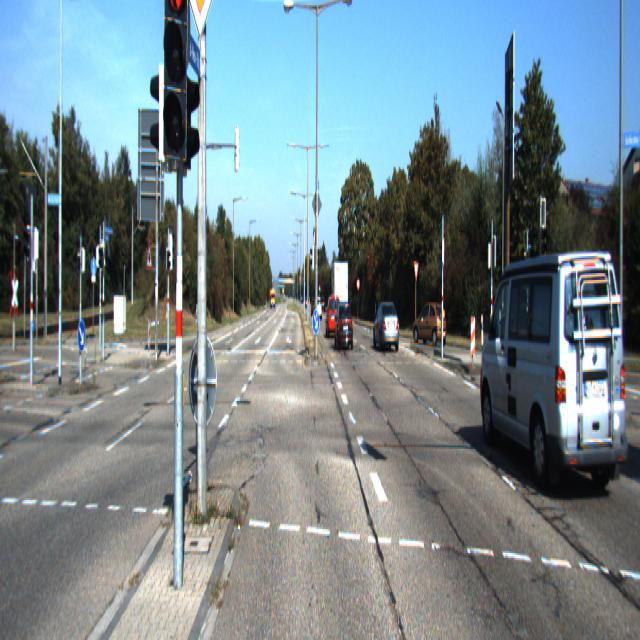Car: (478, 235, 630, 506), (413, 300, 447, 346), (372, 300, 400, 352), (331, 258, 348, 322), (335, 302, 354, 352), (325, 294, 341, 339)
